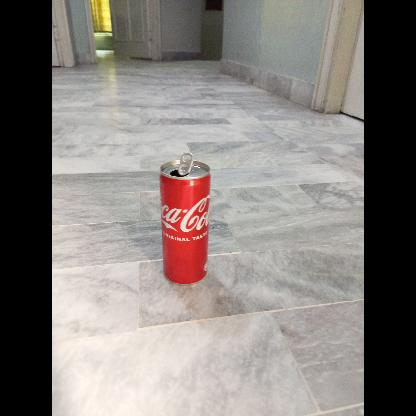Lid_Open: (165, 152, 195, 180)
Tin_Can: (160, 152, 212, 286)
